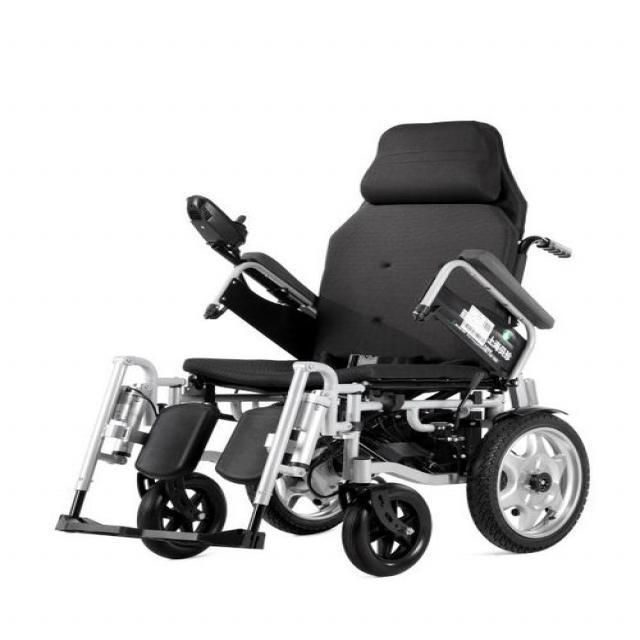wheelchairs: (66, 118, 588, 581)
